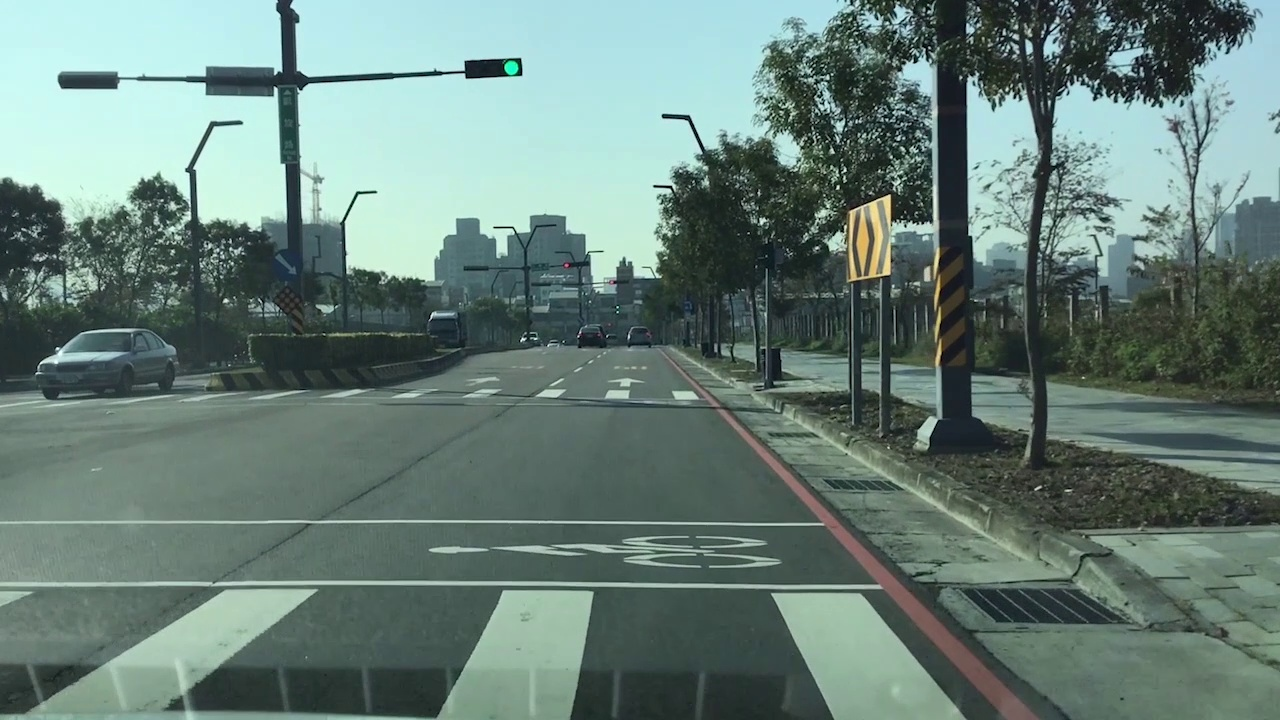Pedestrian_Crossing: (0, 585, 1101, 717)
